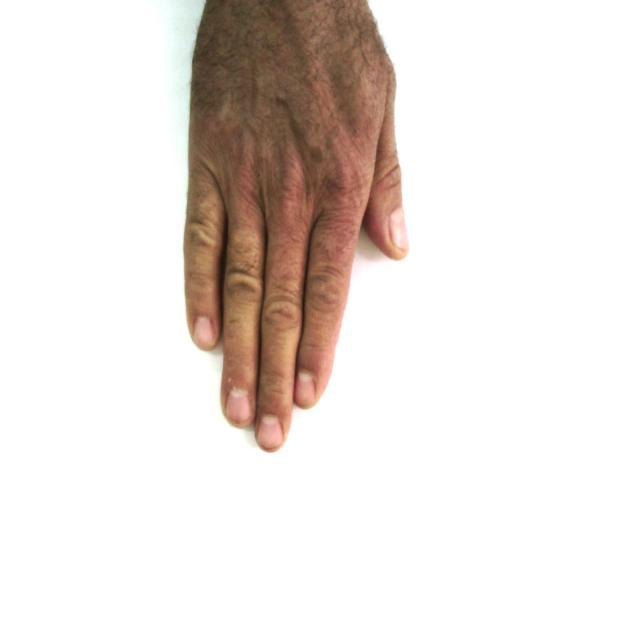Fingernail: (389, 208, 409, 250), (258, 415, 282, 447), (228, 392, 251, 422), (295, 372, 315, 406), (194, 318, 215, 347)
